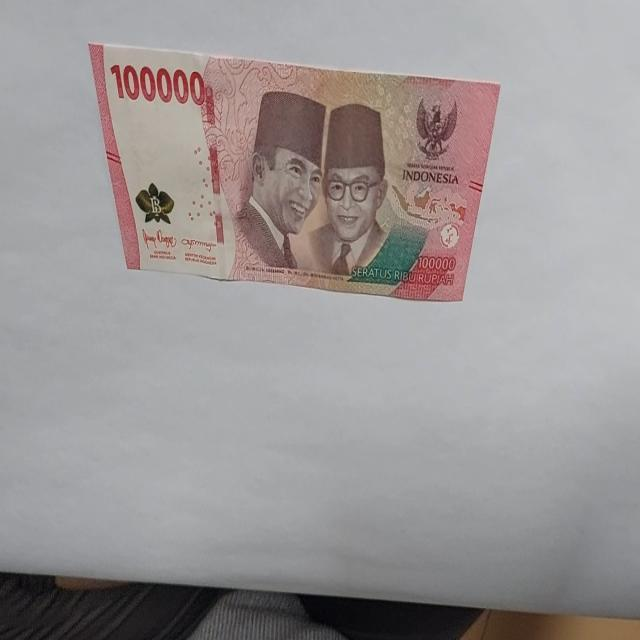seratus ribu rupiah: (87, 41, 501, 303), (235, 89, 326, 271)
